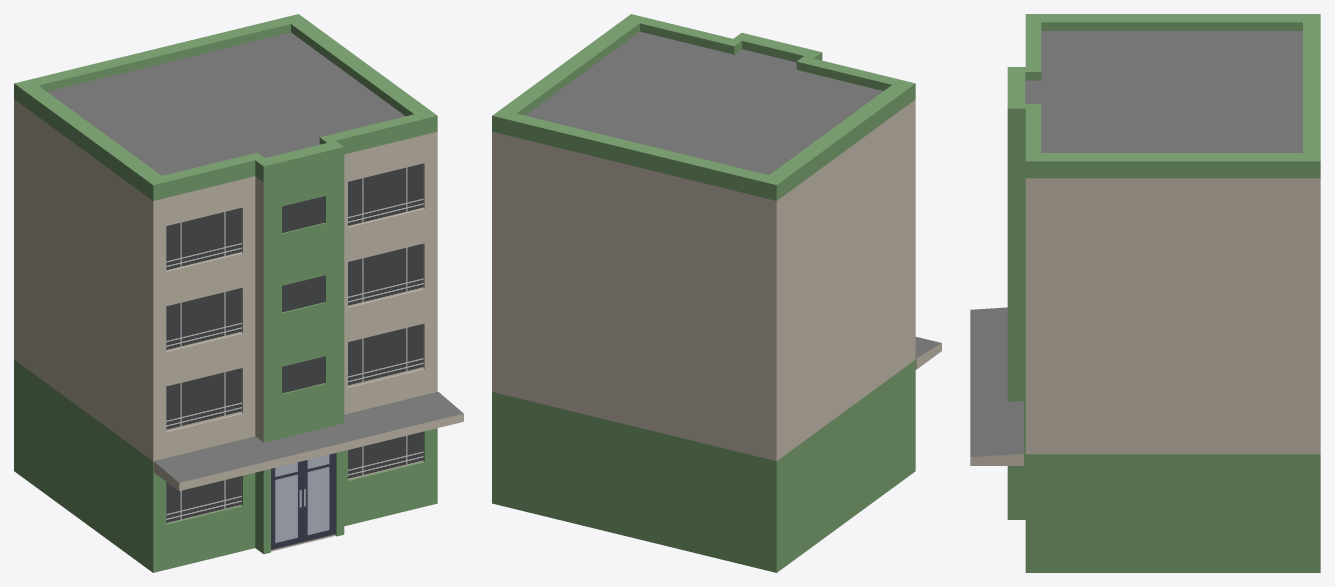
File: Building Sky_small_color01.fbx
3 views of the same model, side by side, from view 1: azimuth 30°, elevation 25°; view 2: azimuth 150°, elevation 25°; view 3: azimuth 270°, elevation 25° (orthographic). The views are drawn at different scales.
Visible parts, largest first — view 1: Building Sky_small_color01; view 2: Building Sky_small_color01; view 3: Building Sky_small_color01.
Part boxes in pixels (bbox=[...]): Building Sky_small_color01: bbox=[14, 14, 463, 572]; Building Sky_small_color01: bbox=[492, 14, 941, 572]; Building Sky_small_color01: bbox=[970, 14, 1320, 572].
Bounding box in the file's own units: 1300 × 1693 × 1307.
